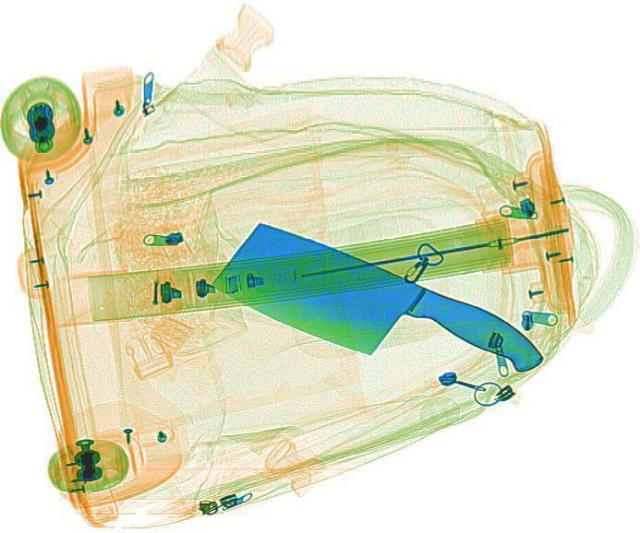Knife: (202, 212, 556, 417)
